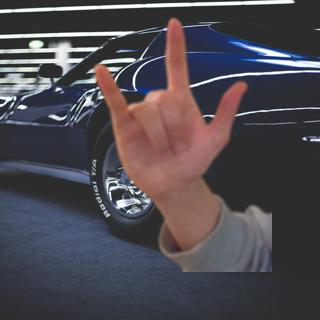ILY: (92, 15, 251, 202)
